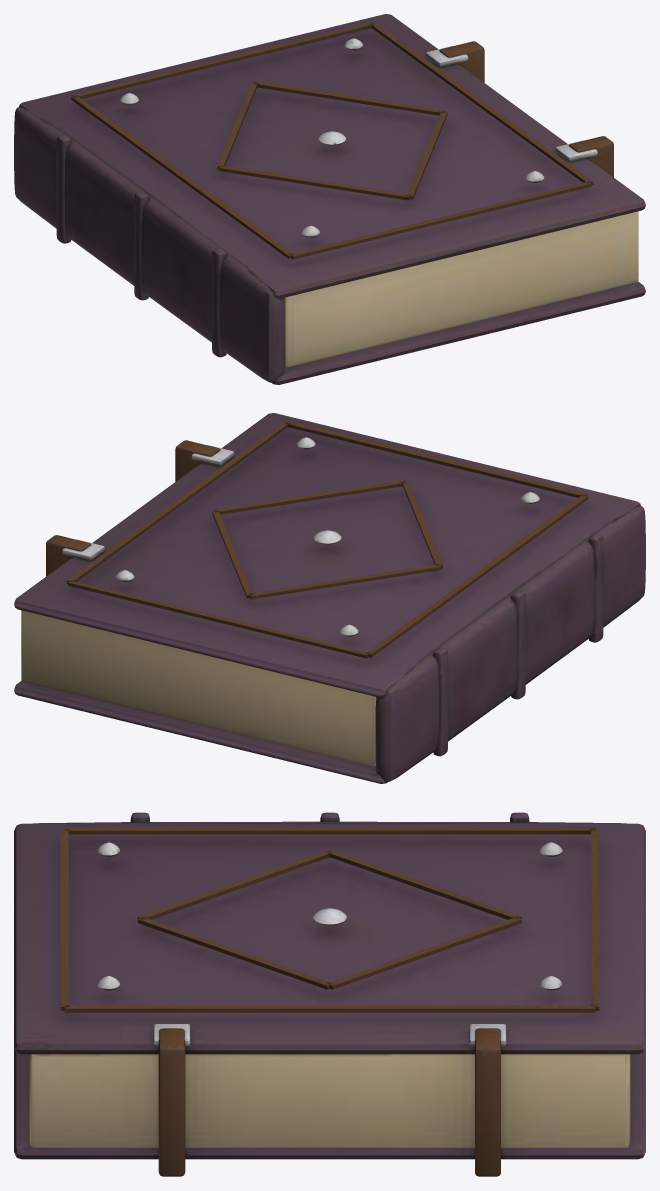
The model's file is galen_antidotes.glb.
3 views of the same model, one above another, from view 1: azimuth 30°, elevation 25°; view 2: azimuth 150°, elevation 25°; view 3: azimuth 270°, elevation 25° (orthographic). The views are drawn at different scales.
Visible parts, largest first — view 1: galen_antidotes; view 2: galen_antidotes; view 3: galen_antidotes.
Part boxes in pixels (x1,y1,x2,y2): galen_antidotes: [14, 14, 645, 384]; galen_antidotes: [14, 413, 645, 783]; galen_antidotes: [14, 812, 645, 1176].
Bounding box in the file's own units: 0.219 × 0.0614 × 0.24.
1 material, 1 textured.
